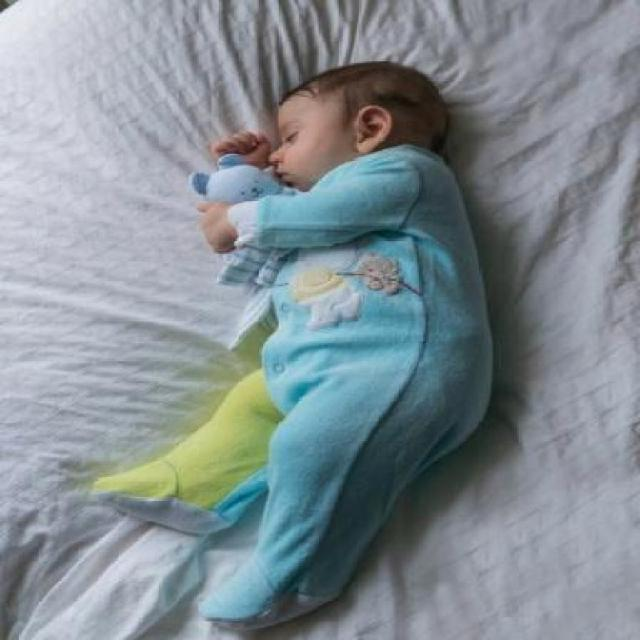child: (94, 60, 494, 626)
